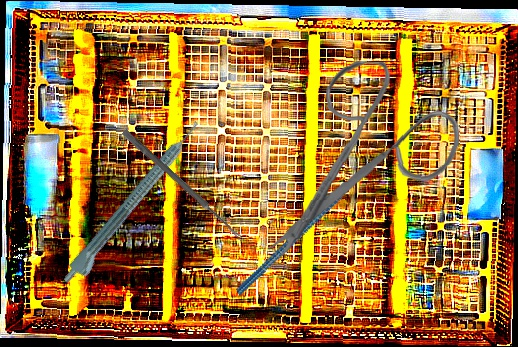Chopper: (207, 152, 400, 296)
Handpiece: (58, 118, 211, 292)
Iris Scissors: (266, 56, 463, 270)
Surgical Spoon: (121, 129, 246, 243)
